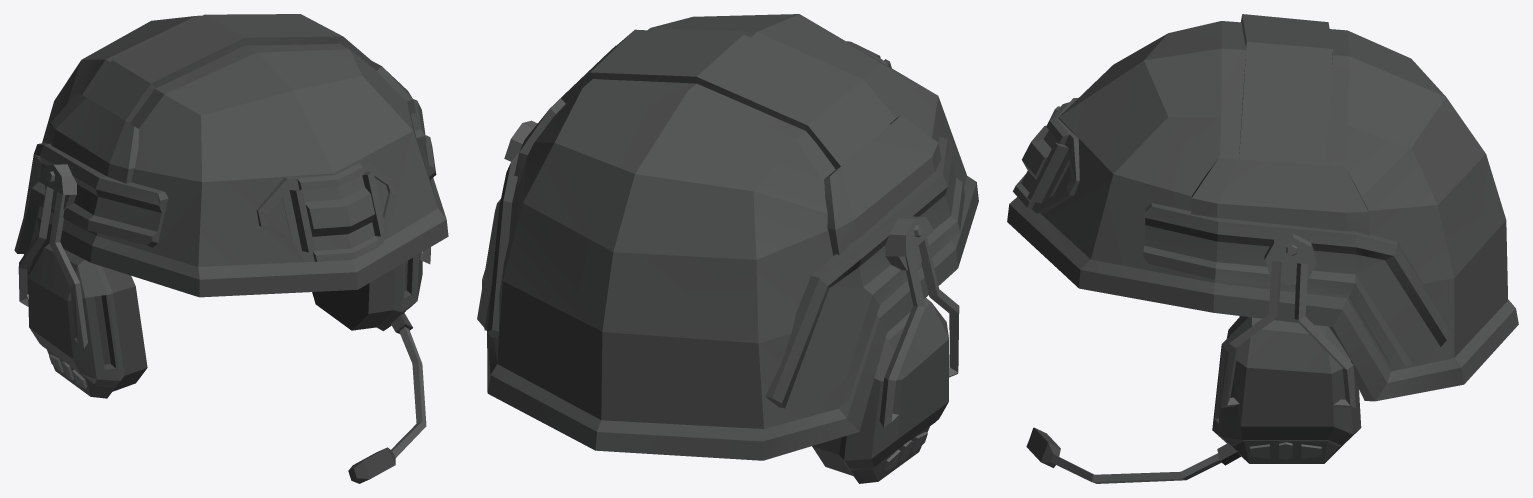
The model's file is Helmet_01_SM.FBX.
The picture shows the model from 3 angles, left to right: view 1: azimuth 30°, elevation 25°; view 2: azimuth 150°, elevation 25°; view 3: azimuth 270°, elevation 25°; orthographic projection. The views are drawn at different scales.
Visible parts, largest first — view 1: Helmet_01_SM; view 2: Helmet_01_SM; view 3: Helmet_01_SM.
Part boxes in pixels (x1,y1,x2,y2): Helmet_01_SM: (14, 14, 448, 483); Helmet_01_SM: (477, 14, 978, 483); Helmet_01_SM: (1007, 14, 1518, 483).
Size of what is drawn, in the model's own units: 26.45 by 30.35 by 26.33.
